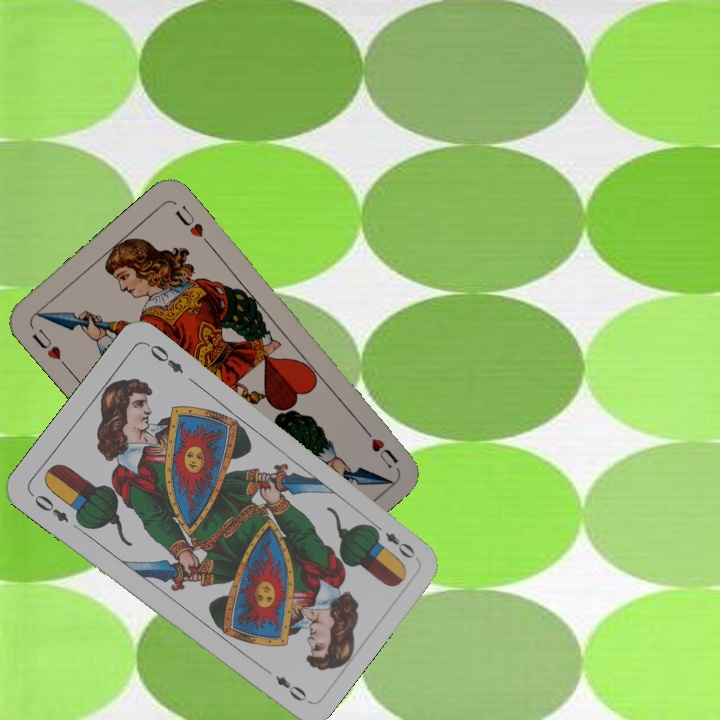EO: (368, 519, 418, 562), (30, 490, 72, 525)
HU: (357, 421, 401, 471), (27, 324, 71, 371)
